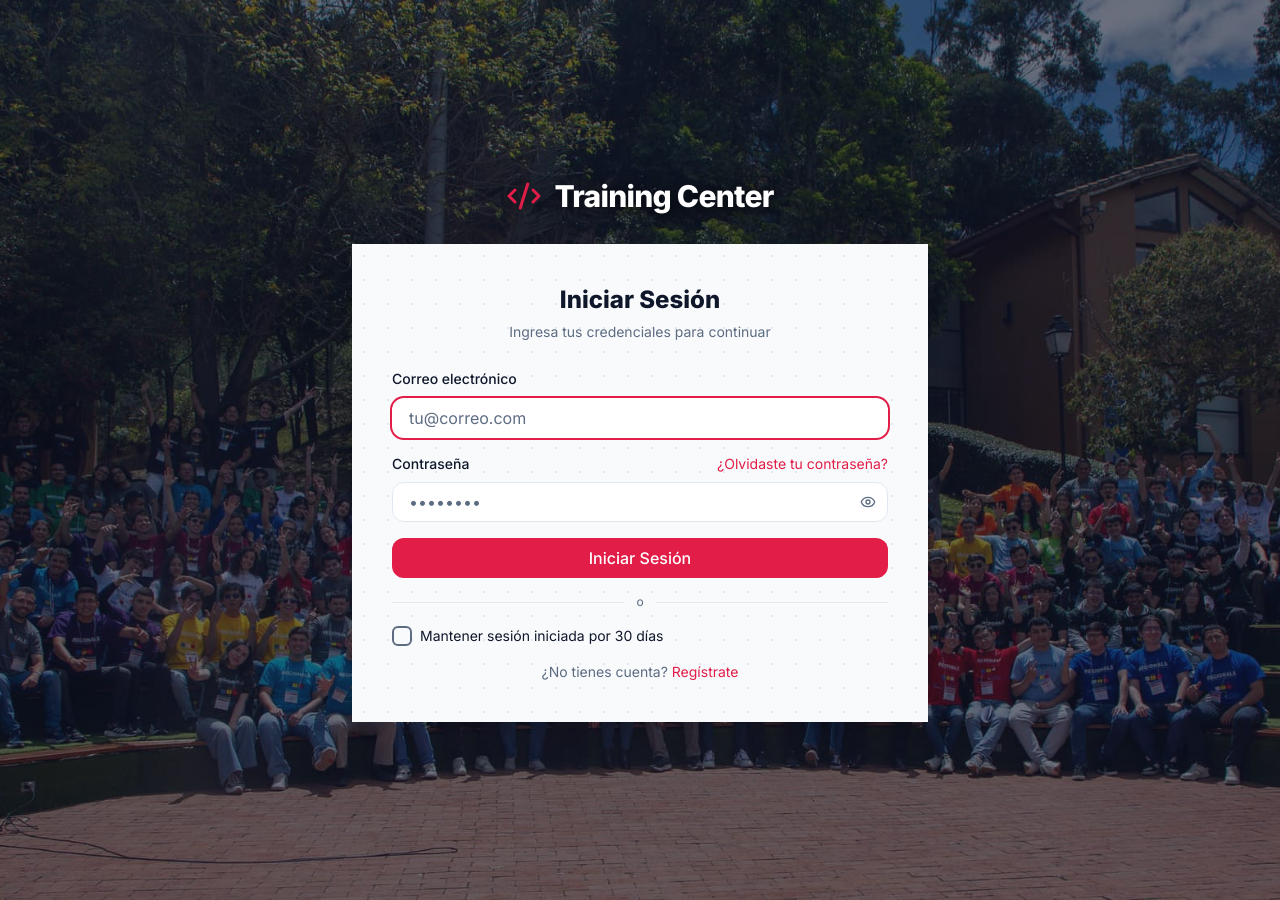
Test: LoginPage › shows validation errors on empty submit
Click the button "Iniciar Sesión".
click(640, 558)  # box [392,538,888,578]
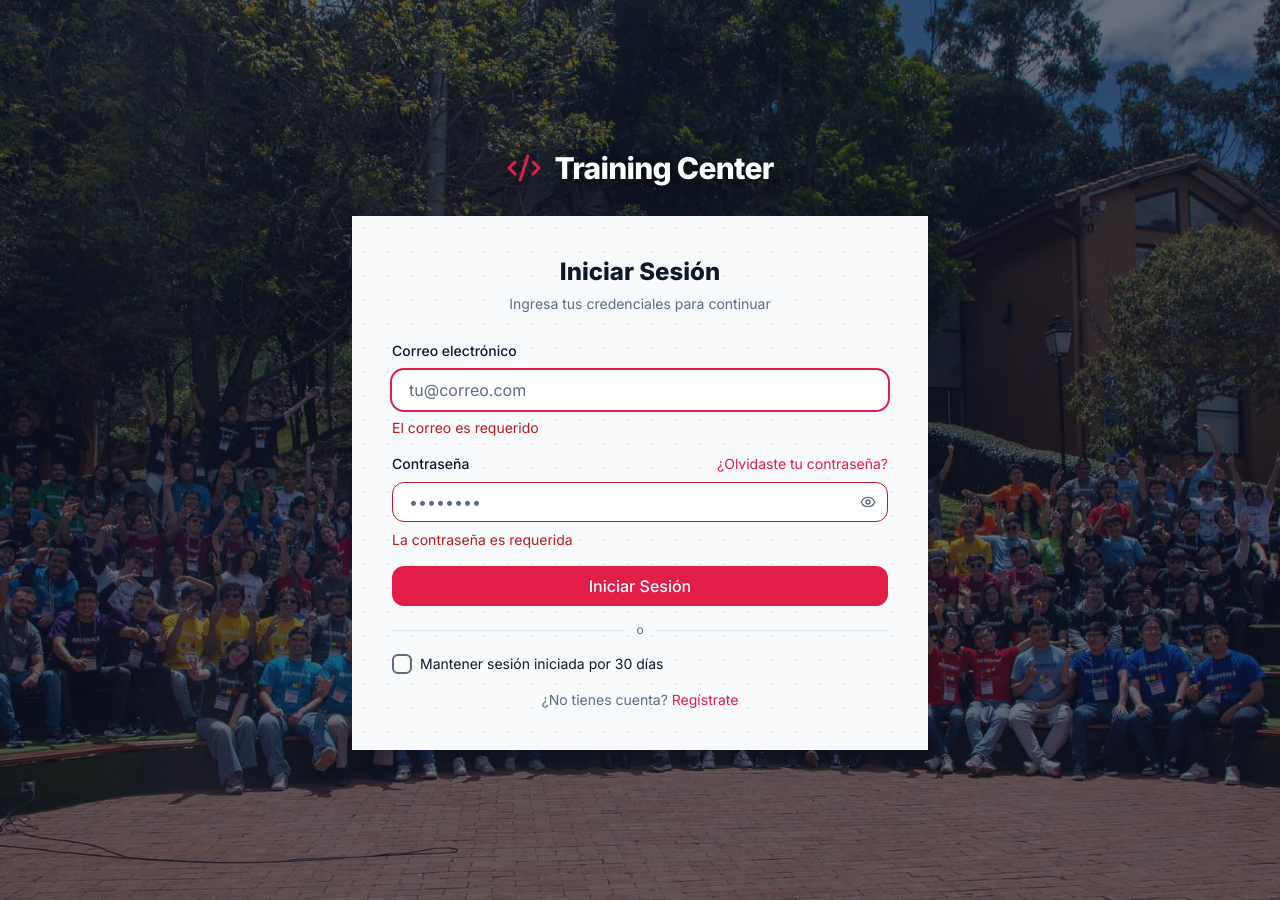
Expected: the text "El correo es requerido" is shown, [392,419,539,436]
Expected: the text "La contraseña es requerida" is shown, [392,531,573,548]
